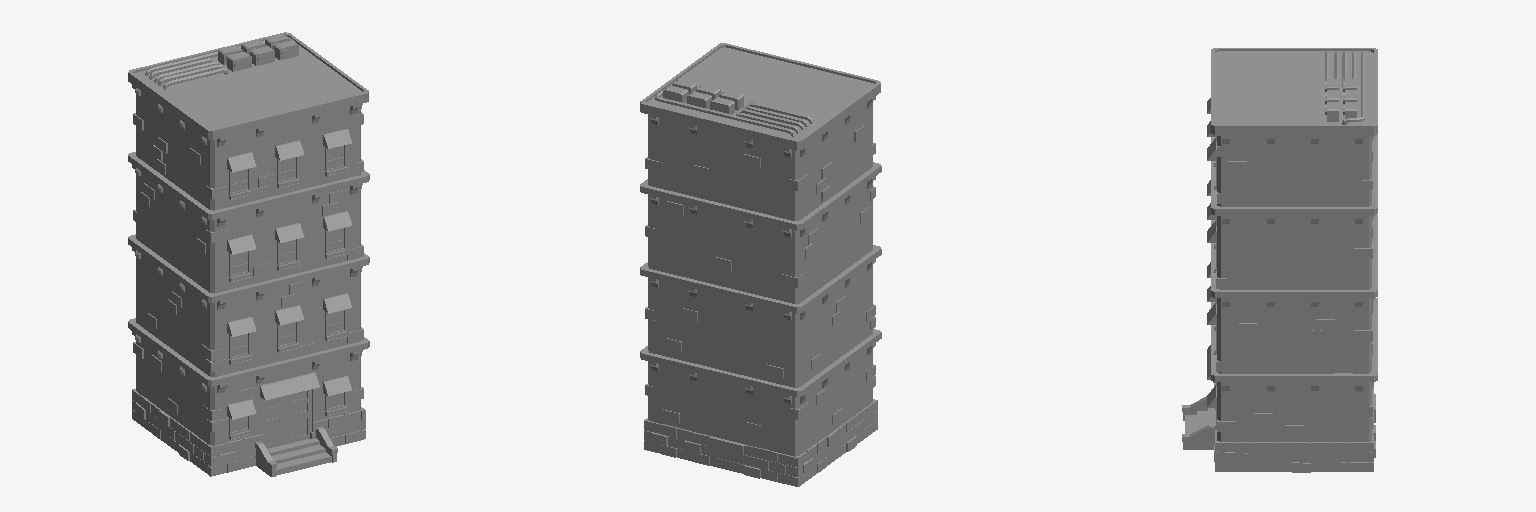
File: 4Story.obj
3 renders of one model, left to right at view 1: azimuth 30°, elevation 25°; view 2: azimuth 150°, elevation 25°; view 3: azimuth 270°, elevation 25°, orthographic.
Visible parts, largest first — view 1: 4Story_Cube.005; view 2: 4Story_Cube.005; view 3: 4Story_Cube.005.
Boxes of the visible parts, x1,y1,x2,y2 form: 4Story_Cube.005: [128, 32, 369, 476]; 4Story_Cube.005: [640, 43, 881, 486]; 4Story_Cube.005: [1182, 48, 1377, 472].
Bounding box in the file's own units: 2.42 × 5.09 × 2.53.